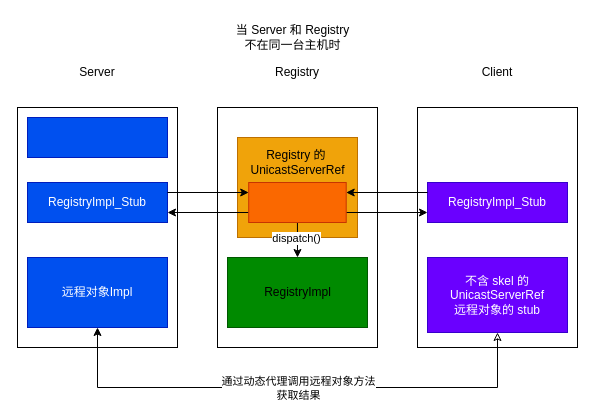
This 595x418 diagram has some shape labels left out. The shapes that lost their labels are listed below. From the top down, each one's centre as x and y in pixels, then its label:
At [97,137]: "ObjectTable".
At [297,202]: "skel: RegistryImpl_Skel".
